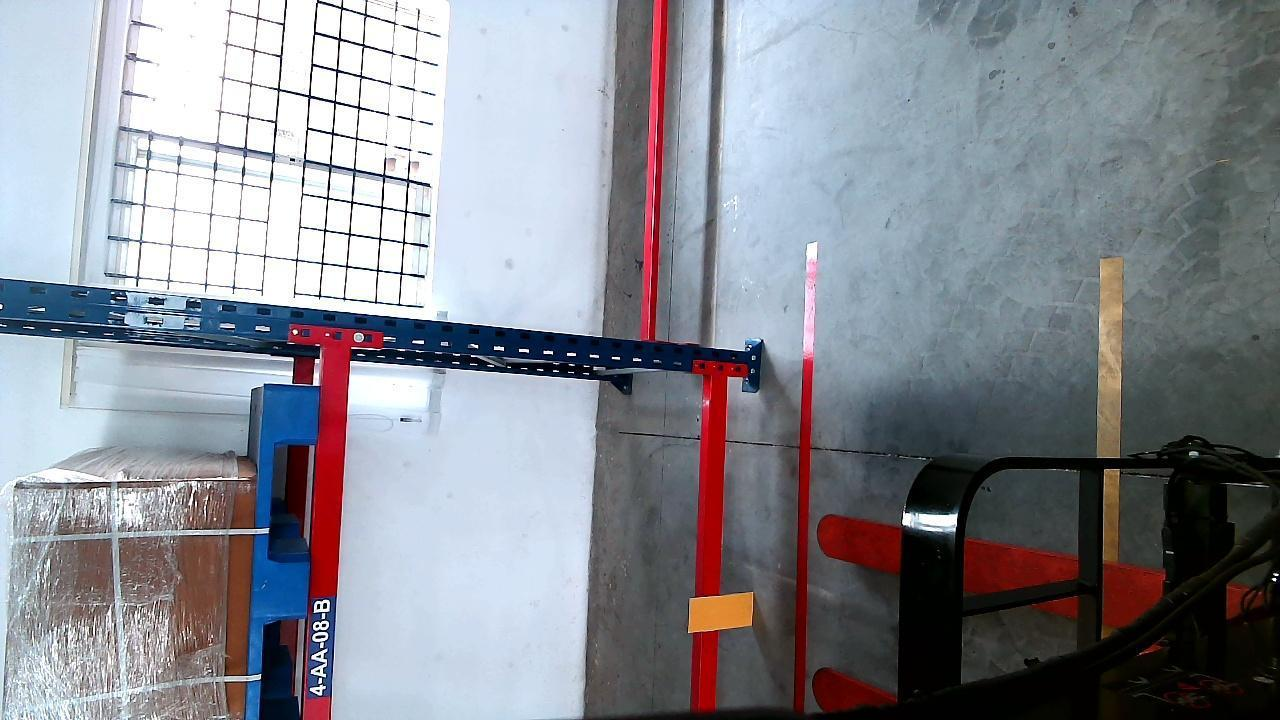h_rack: (306, 352, 349, 720), (696, 374, 727, 709)
orange_strip: (690, 592, 755, 631)
red_line: (791, 234, 823, 703)
small_pallet: (245, 383, 317, 720)
yellow_line: (1098, 239, 1123, 621)
